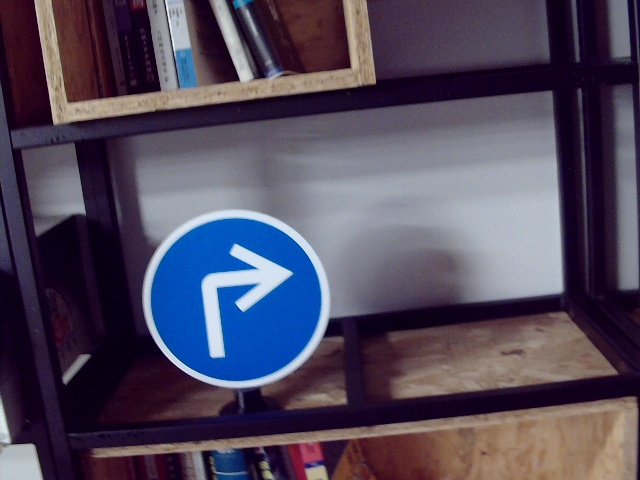turn_right: (184, 241, 286, 360)
